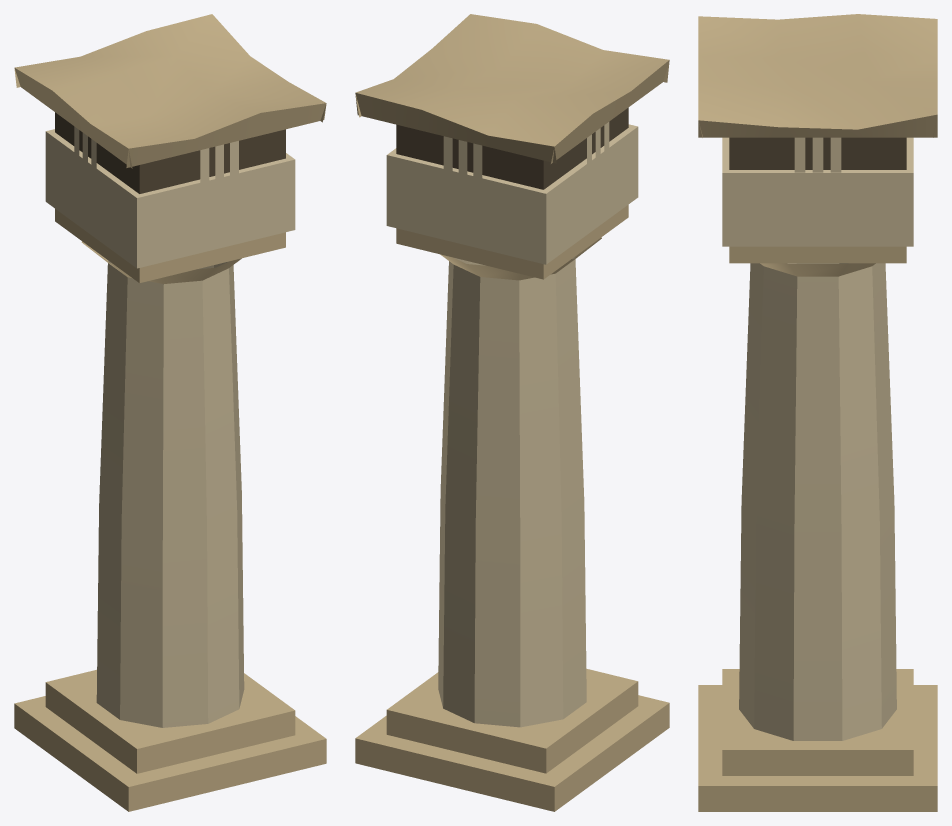
The model's file is temple-post.glb.
The picture shows the model from 3 angles, left to right: view 1: azimuth 30°, elevation 25°; view 2: azimuth 150°, elevation 25°; view 3: azimuth 270°, elevation 25°; orthographic projection. The views are drawn at different scales.
Parts seen in each view (by area): view 1: temple-post; view 2: temple-post; view 3: temple-post.
Boxes of the visible parts, left/top/right/bottom form: temple-post: left=14, top=14, right=326, bottom=811; temple-post: left=355, top=14, right=669, bottom=811; temple-post: left=698, top=14, right=937, bottom=811.
Size of the model in its own units: 1 by 3.22 by 1.
